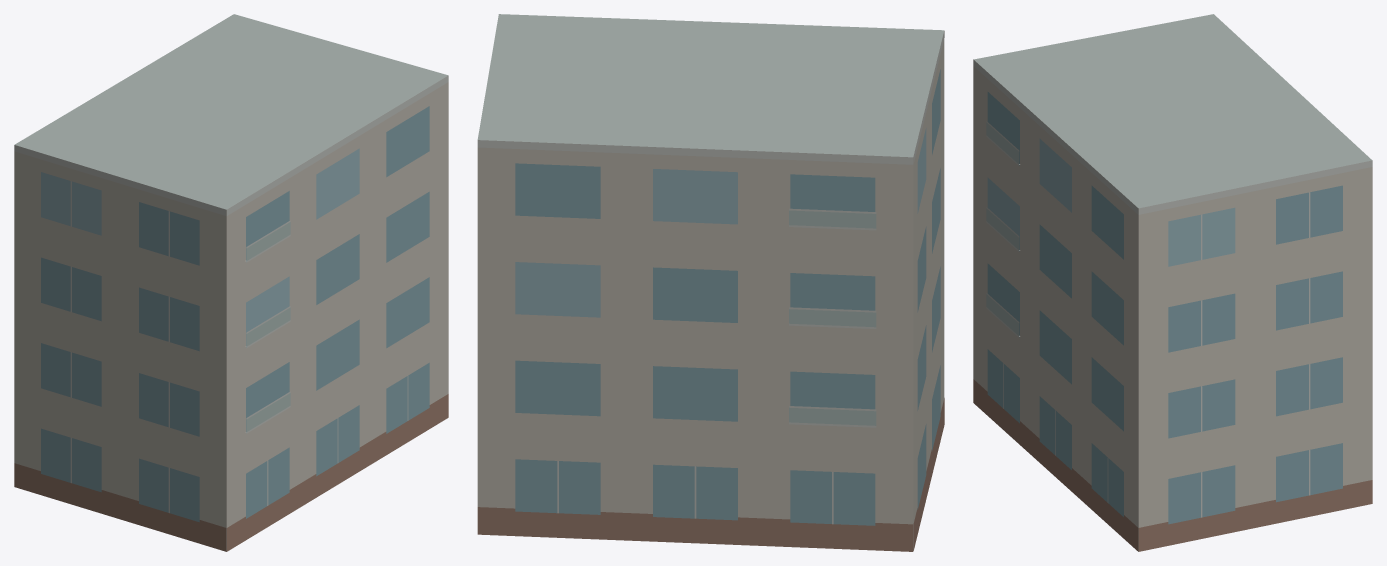
The model's file is survey-upis-32700173.glb.
The picture shows the model from 3 angles, left to right: view 1: azimuth 30°, elevation 25°; view 2: azimuth 150°, elevation 25°; view 3: azimuth 270°, elevation 25°; orthographic projection. The views are drawn at different scales.
Visible parts, largest first — view 1: survey-upis-32700173.tmp; view 2: survey-upis-32700173.tmp; view 3: survey-upis-32700173.tmp.
Part boxes in pixels (<box>): survey-upis-32700173.tmp: <box>14,14,448,551</box>; survey-upis-32700173.tmp: <box>477,14,944,551</box>; survey-upis-32700173.tmp: <box>973,14,1372,551</box>.
Bounding box in the file's own units: 15.67 × 12.9 × 13.59.
